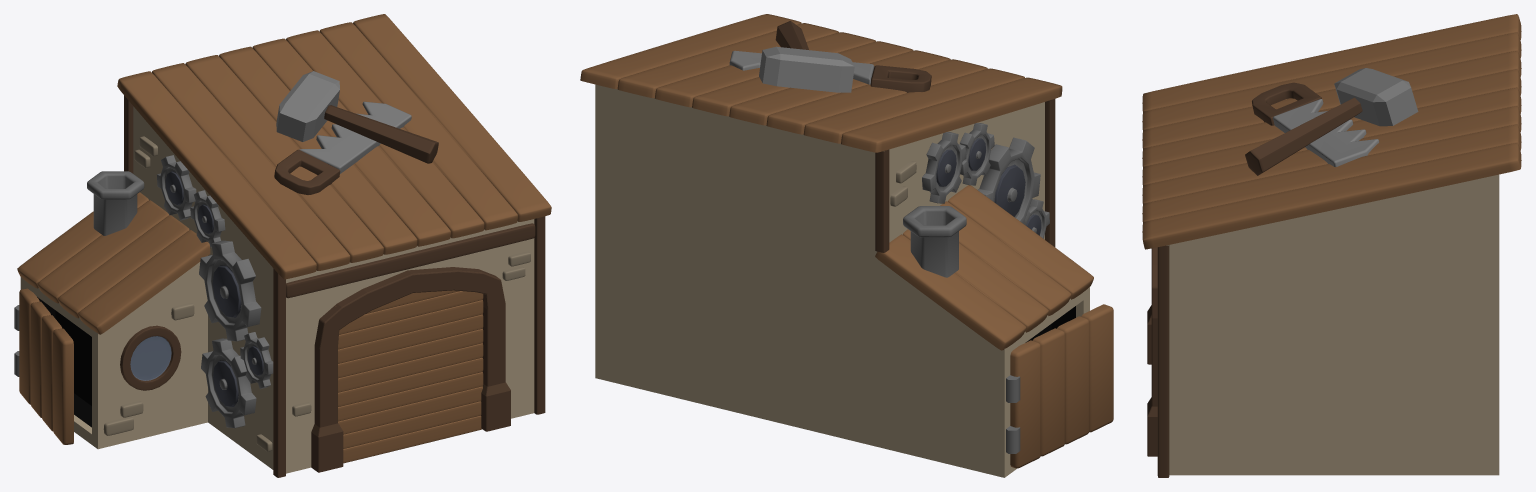
File: atolye.fbx
3 views of the same model, side by side, from view 1: azimuth 30°, elevation 25°; view 2: azimuth 150°, elevation 25°; view 3: azimuth 270°, elevation 25° (orthographic). The views are drawn at different scales.
Visible parts, largest first — view 1: Buyyuk_Cati, Cube.002, Cube, Cube.001, cati, Cube.005, Tahta_Kapi, Kalas, Cark.002, Kalas.002, Cark, pencere (+9 smaller); view 2: Cube, Buyyuk_Cati, Cube.001, cati, Tahta_Kapi, Cekic, Cark.002, Baca, Cark.004, Kalas, Kalas.001, Cark.003 (+5 smaller); view 3: Cube, Buyyuk_Cati, Cekic, Kalas, Cylinder, Plane, Cube.005, Plane.001.
Part boxes in pixels (box(x1,y1,x2,y2)): Buyyuk_Cati: box(117, 14, 551, 279); Cube.002: box(334, 290, 483, 463); Cube: box(133, 106, 534, 473); Cube.001: box(20, 262, 207, 449); cati: box(17, 192, 210, 334); Cube.005: box(311, 267, 510, 472); Tahta_Kapi: box(19, 288, 73, 444); Kalas: box(273, 216, 545, 477); Cark.002: box(199, 240, 261, 341); Kalas.002: box(286, 223, 535, 298); Cark: box(201, 338, 256, 428); pencere: box(120, 325, 181, 390); Cube: box(595, 84, 1044, 447); Buyyuk_Cati: box(580, 14, 1062, 152); Cube.001: box(882, 263, 1089, 477); cati: box(875, 185, 1093, 350); Tahta_Kapi: box(1010, 304, 1113, 468); Cekic: box(759, 46, 854, 92); Cark.002: box(977, 137, 1040, 225); Baca: box(903, 206, 966, 277); Cark.004: box(922, 132, 966, 203); Kalas: box(1045, 99, 1055, 246); Kalas.001: box(875, 149, 889, 252); Cark.003: box(960, 123, 994, 185); Cube: box(1166, 174, 1499, 475); Buyyuk_Cati: box(1142, 14, 1521, 249); Cekic: box(1334, 68, 1418, 126); Kalas: box(1157, 245, 1169, 477); Cylinder: box(1245, 97, 1362, 175); Plane: box(1273, 99, 1379, 166); Cube.005: box(1147, 247, 1157, 456); Plane.001: box(1252, 82, 1321, 125).
Size of the model in its own units: 602 by 419 by 437.
